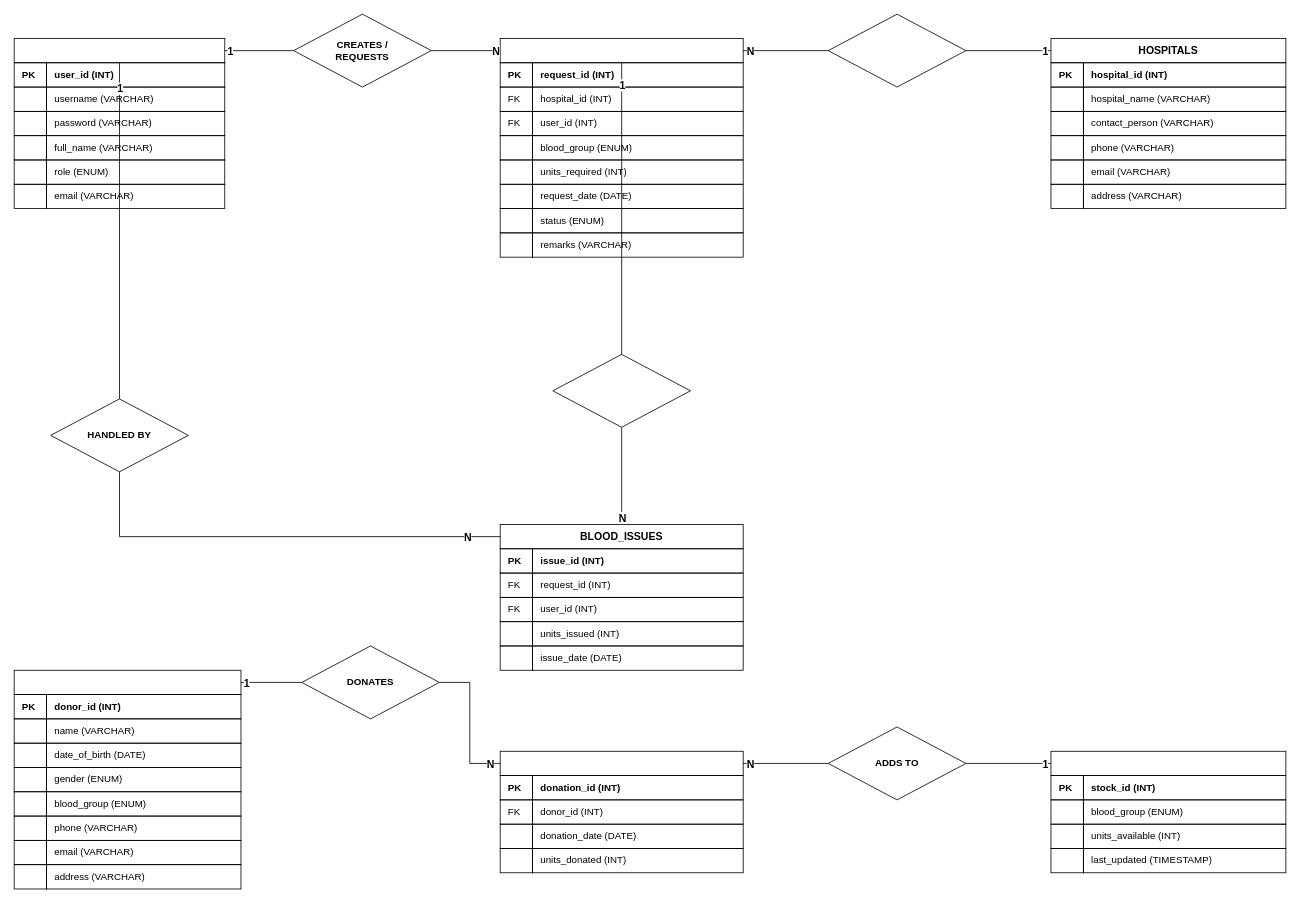
This 1300x903 diagram has some shape labels left out. Each missing label, with the centre of its shape:
"BLOOD_REQUESTS" belongs at (621,50).
"BLOOD_STOCK" belongs at (1168,763).
"DONATIONS" belongs at (621,763).
"DONORS" belongs at (127,682).
"MADE BY" belongs at (896,50).
"RESULTS IN" belongs at (621,390).
"USERS" belongs at (119,50).
